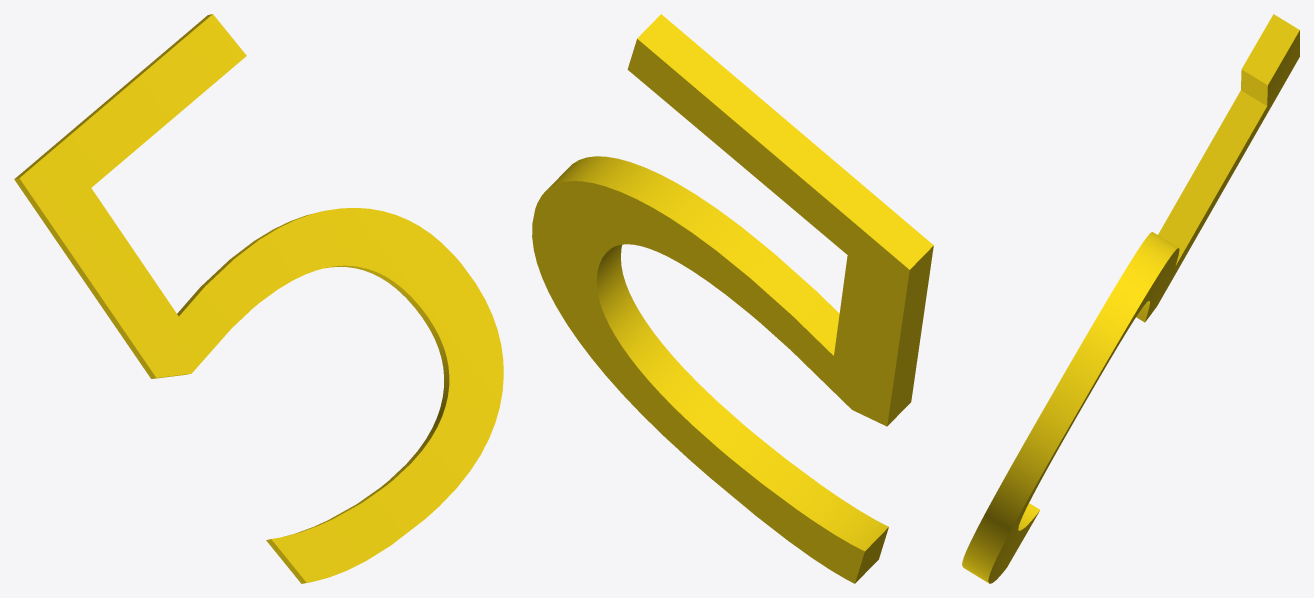
The model's file is Number_5.gltf.
The picture shows the model from 3 angles, left to right: view 1: azimuth 30°, elevation 25°; view 2: azimuth 150°, elevation 25°; view 3: azimuth 270°, elevation 25°; orthographic projection. The views are drawn at different scales.
Visible parts, largest first — view 1: Sub_3_Cell_1_2_Number_5; view 2: Sub_3_Cell_1_2_Number_5; view 3: Sub_3_Cell_1_2_Number_5.
Part boxes in pixels (x1,y1,x2,y2): Sub_3_Cell_1_2_Number_5: [14, 14, 503, 583]; Sub_3_Cell_1_2_Number_5: [532, 14, 933, 583]; Sub_3_Cell_1_2_Number_5: [962, 14, 1299, 583].
Bounding box in the file's own units: 0.0211 × 0.0258 × 0.0139.
